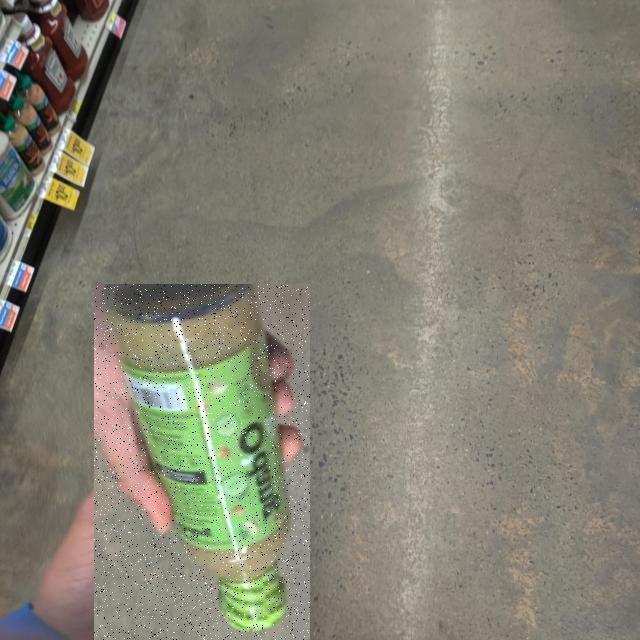Sauce: (94, 284, 310, 640)
